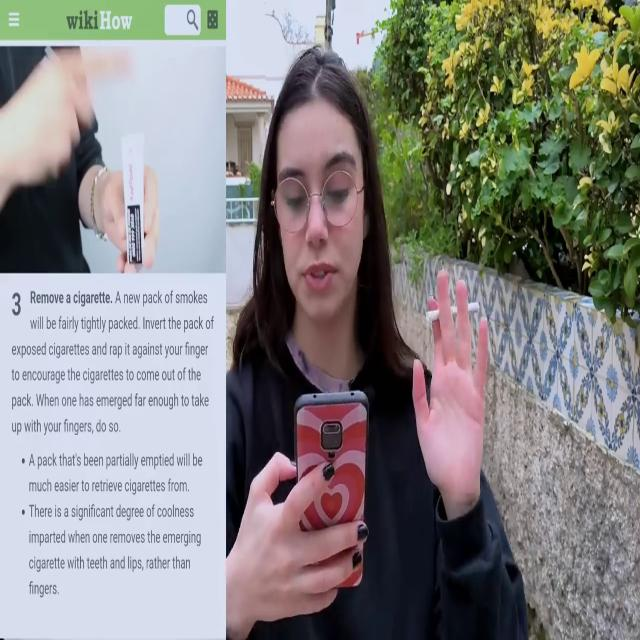Smooking: (416, 266, 500, 332)
